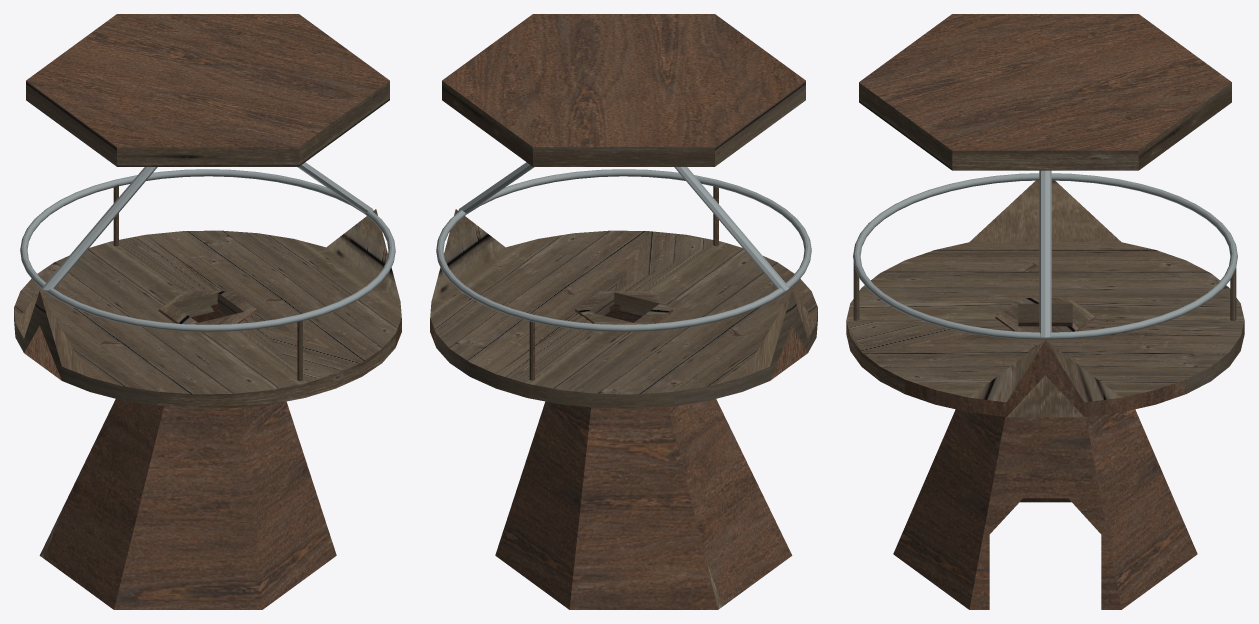
The picture shows the model from 3 angles, left to right: view 1: azimuth 30°, elevation 25°; view 2: azimuth 150°, elevation 25°; view 3: azimuth 270°, elevation 25°; orthographic projection. The views are drawn at different scales.
Parts seen in each view (by area): view 1: 円柱; view 2: 円柱; view 3: 円柱.
Part boxes in pixels (box(x1,y1,x2,y2)): 円柱: box(14, 14, 401, 609); 円柱: box(430, 14, 817, 609); 円柱: box(846, 14, 1244, 609).
Size of the model in its own units: 14.96 by 19.98 by 14.96.
Materials: 2 (1 with a texture image).
